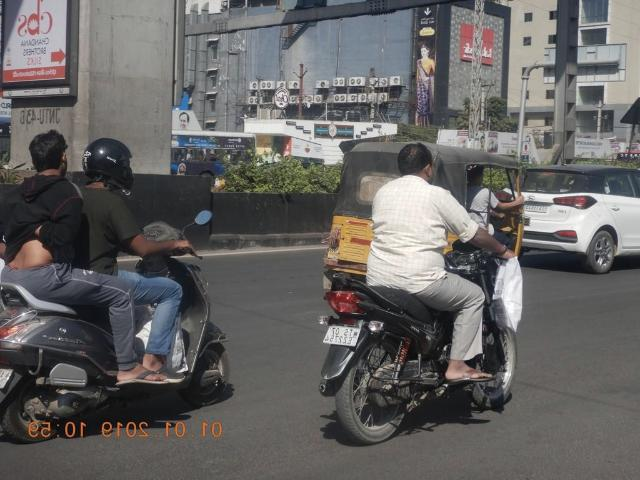helm: (85, 138, 136, 194)
motor: (1, 223, 229, 444), (320, 243, 518, 445)
non-helm: (30, 131, 69, 178), (399, 144, 437, 185)
